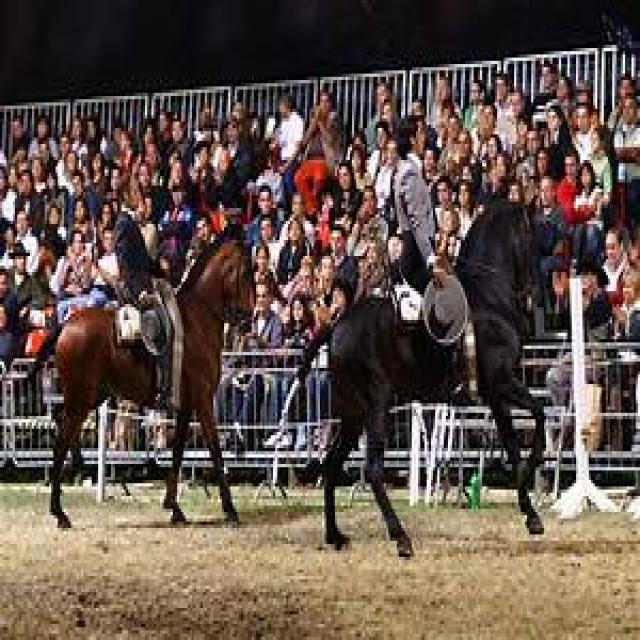horse: (322, 205, 544, 560), (164, 240, 256, 528), (49, 304, 154, 531)
